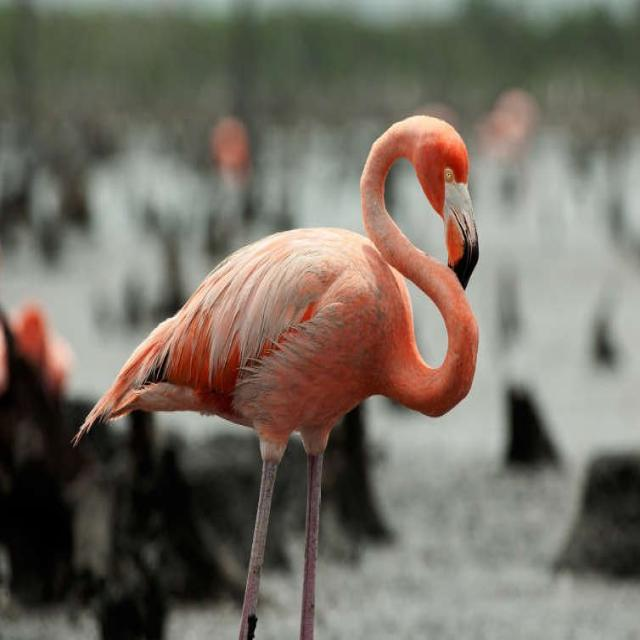Flamingo: (80, 106, 485, 640)
